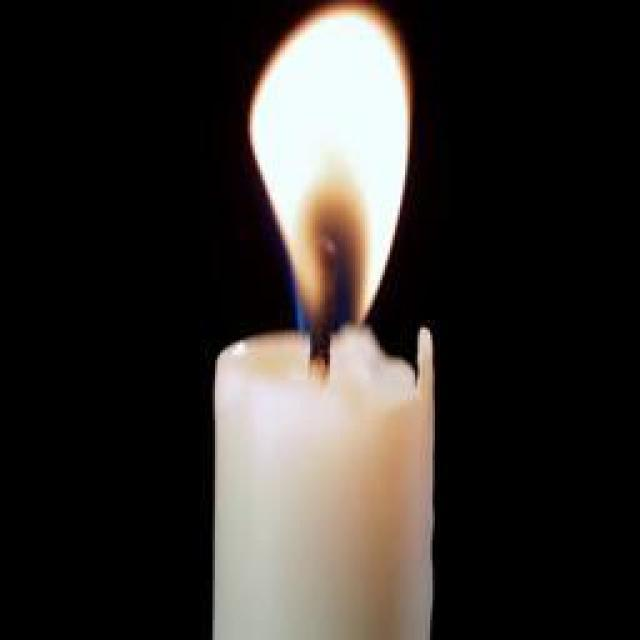Fire: (250, 0, 412, 338)
